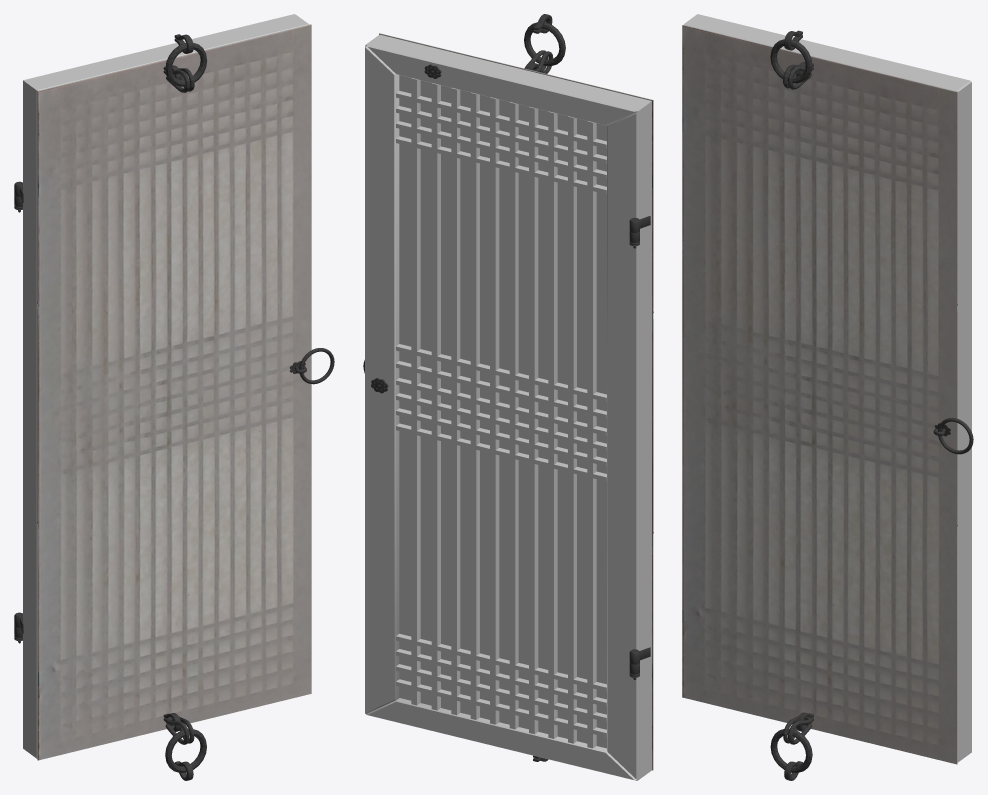
File: SM_SJJ_HG_Window02A_02.fbx
3 views of the same model, side by side, from view 1: azimuth 30°, elevation 25°; view 2: azimuth 150°, elevation 25°; view 3: azimuth 330°, elevation 25° (orthographic).
Visible parts, largest first — view 1: SM_SJJ_HG_Window02A_02; view 2: SM_SJJ_HG_Window02A_02; view 3: SM_SJJ_HG_Window02A_02.
Boxes of the visible parts, box(x1,y1,x2,y2) form: SM_SJJ_HG_Window02A_02: box(14, 14, 334, 780); SM_SJJ_HG_Window02A_02: box(363, 14, 653, 780); SM_SJJ_HG_Window02A_02: box(682, 14, 973, 780).
Bounding box in the file's own units: 61.1 × 16.34 × 145.
